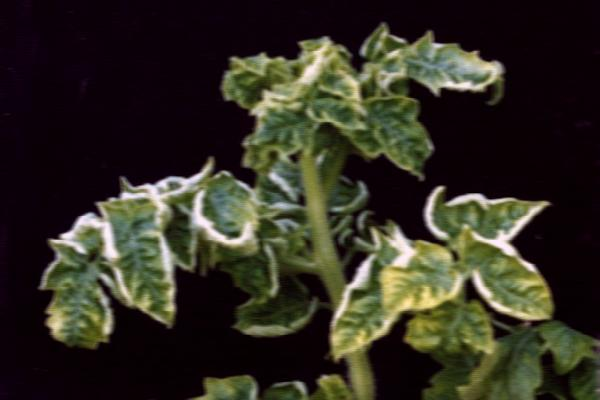Tomato leaf yellow virus: (100, 185, 180, 343), (452, 225, 552, 328), (417, 173, 550, 249), (35, 225, 114, 351), (372, 38, 504, 110), (359, 83, 439, 181), (365, 236, 463, 315), (191, 161, 263, 266)
